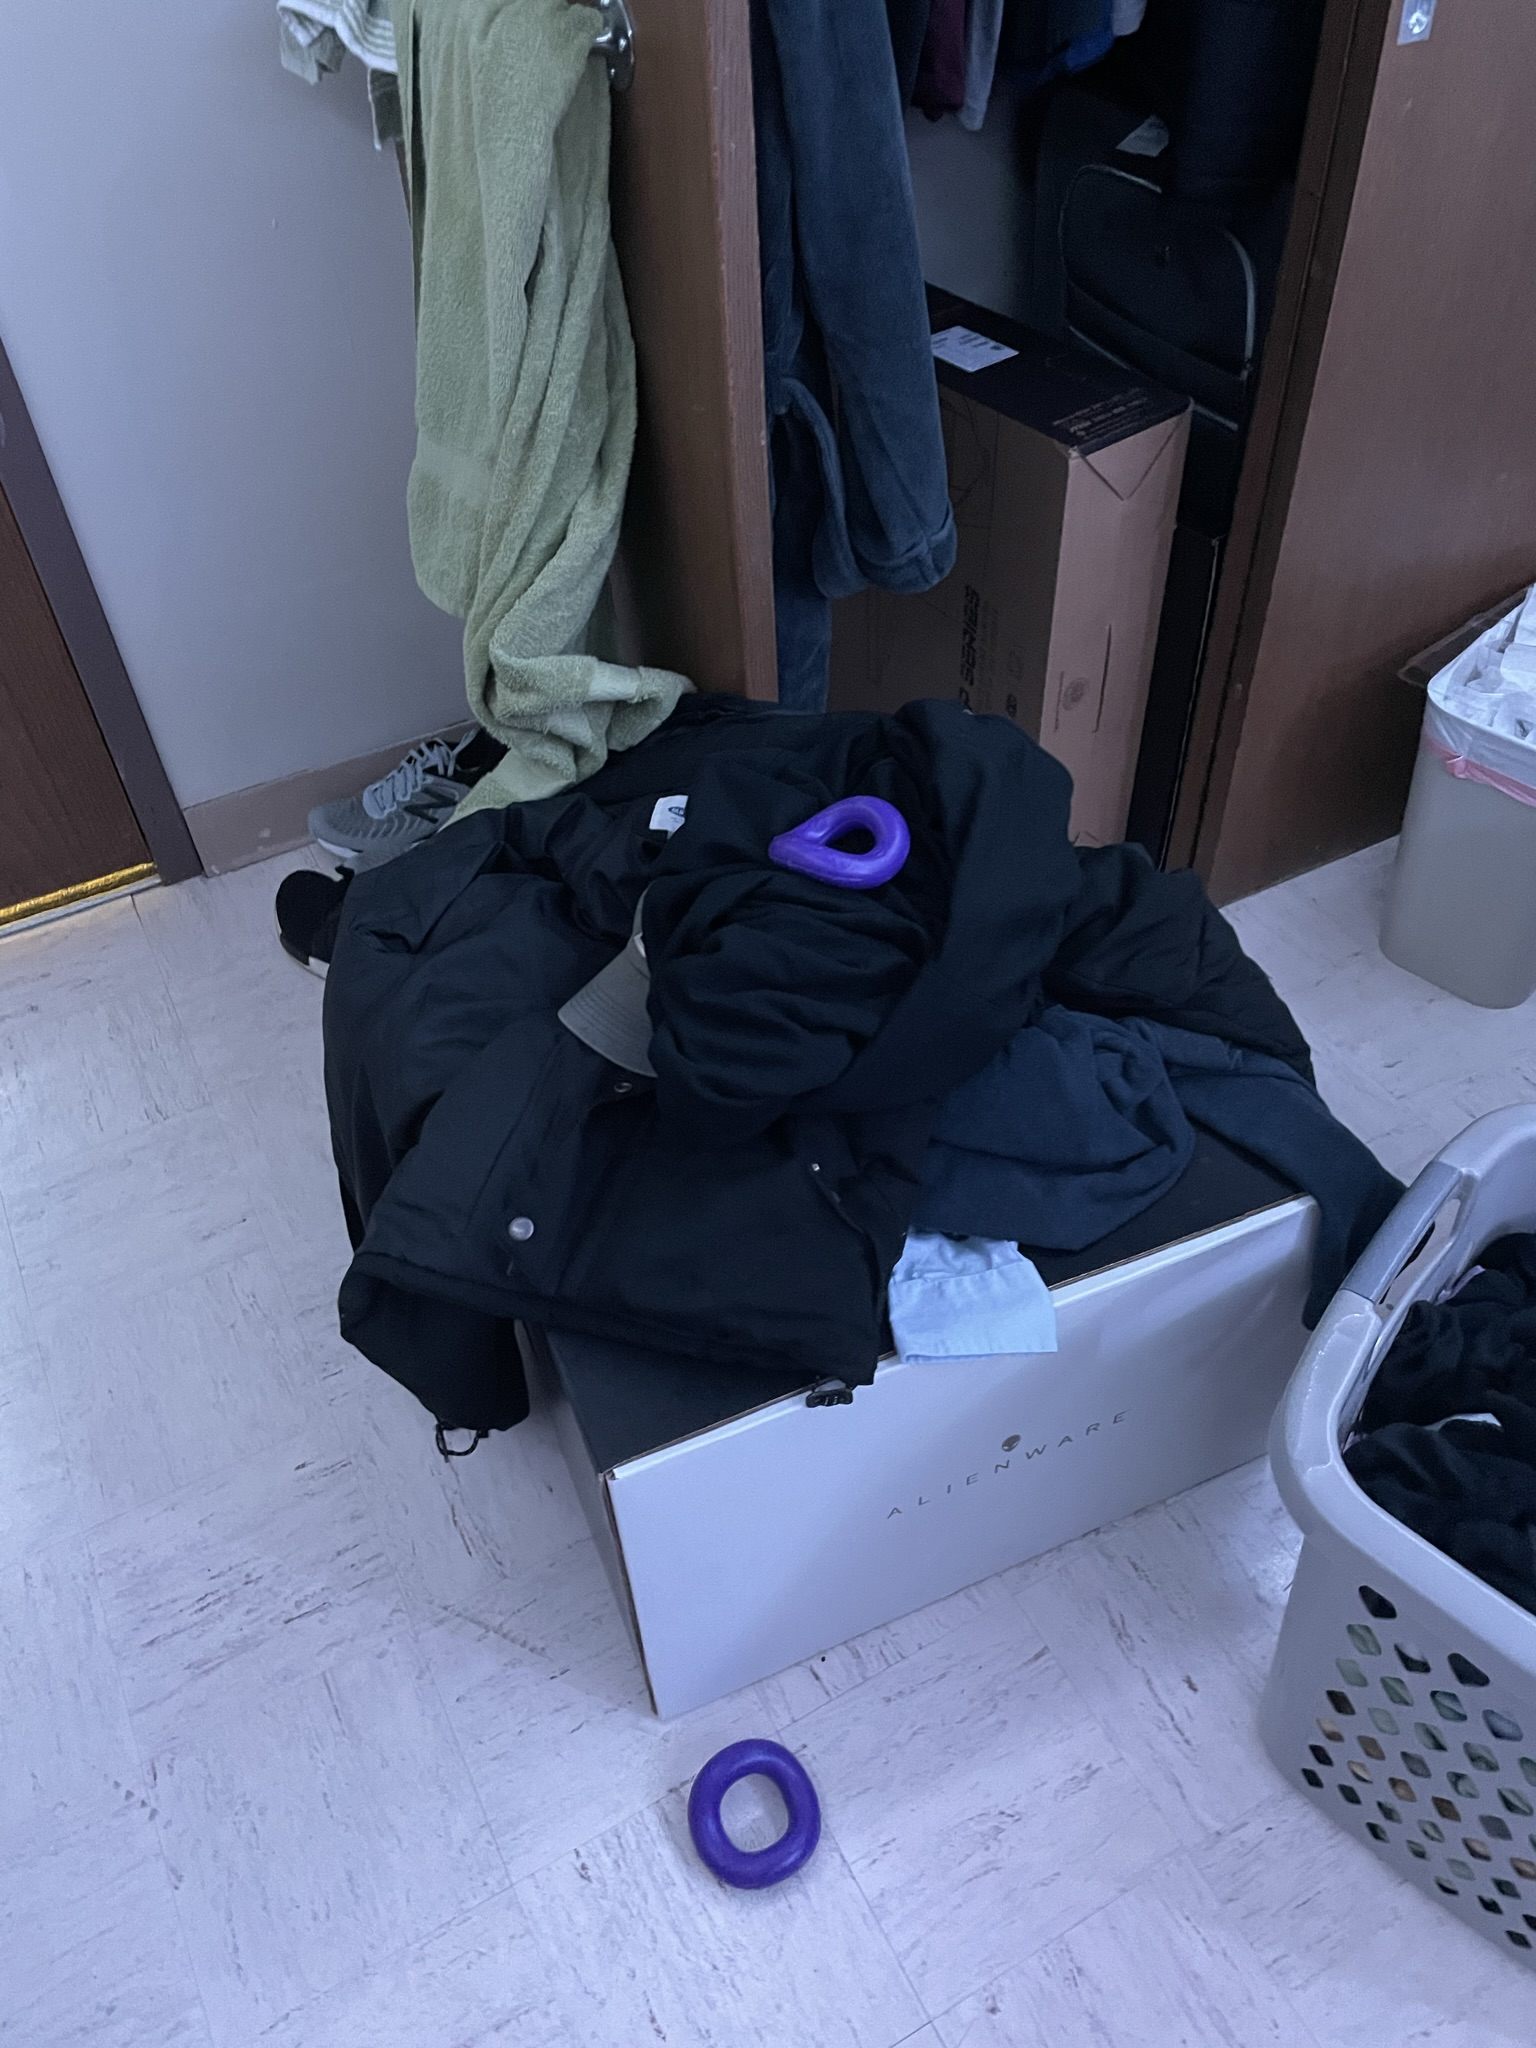ring: (686, 1738, 823, 1890), (768, 795, 910, 892)
